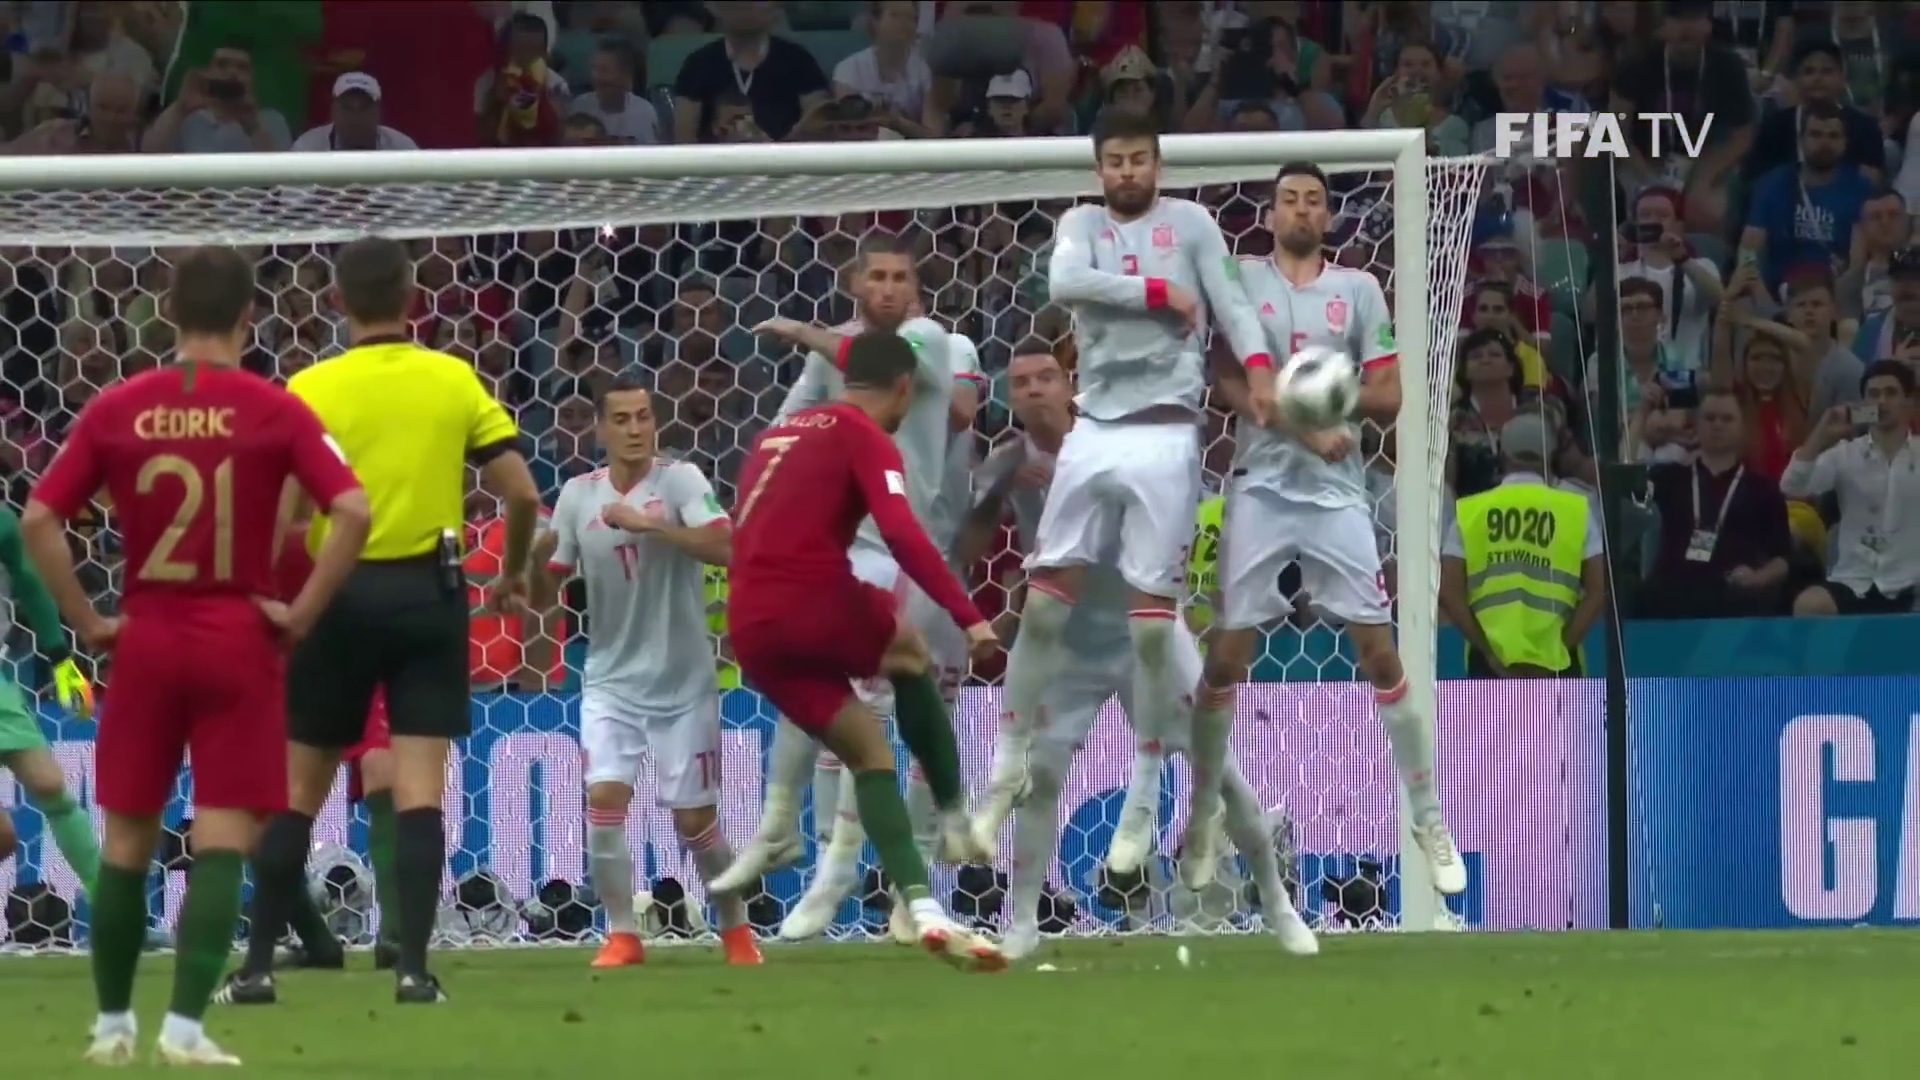ball: (1287, 345, 1359, 429)
person: (22, 245, 367, 1061), (987, 335, 1316, 961), (720, 335, 1018, 974), (1232, 155, 1465, 898), (1048, 98, 1234, 878), (530, 376, 759, 963), (759, 227, 987, 586)
